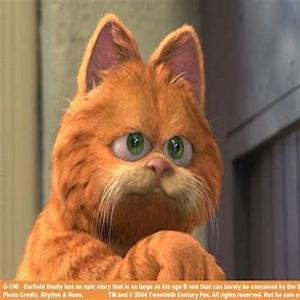cat: (62, 34, 221, 245)
